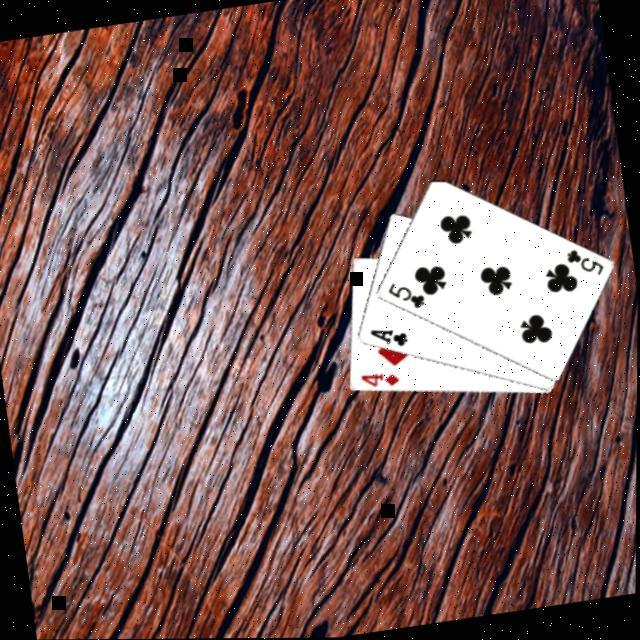4D: (357, 367, 402, 393)
5C: (561, 242, 607, 283), (383, 276, 427, 315)
AC: (365, 321, 410, 353)
